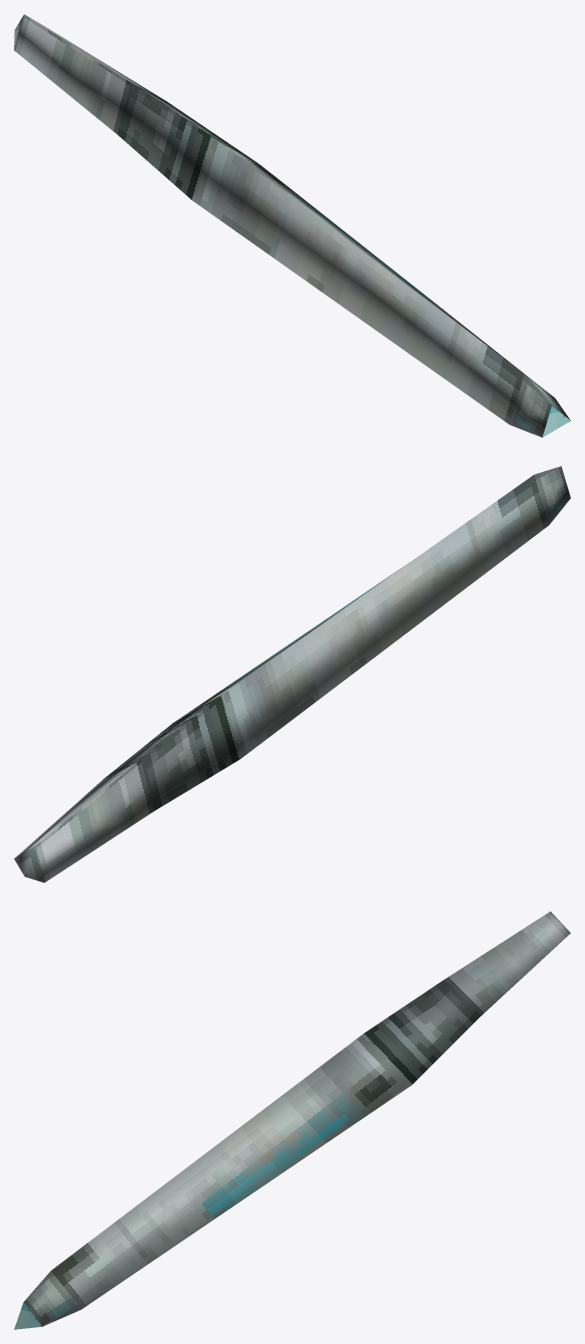
File: xwing_weapon2_neg_s02_l3.fbx
The picture shows the model from 3 angles, top to bottom: view 1: azimuth 30°, elevation 25°; view 2: azimuth 150°, elevation 25°; view 3: azimuth 330°, elevation 25°; orthographic projection.
Visible parts, largest first — view 1: mesh_node; view 2: mesh_node; view 3: mesh_node.
Boxes of the visible parts, x1,y1,x2,y2 form: mesh_node: (14, 14, 570, 437); mesh_node: (14, 466, 570, 882); mesh_node: (14, 911, 570, 1329).
Size of the model in its own units: 0.1939 by 0.1632 by 2.67.
Materials: 1 (1 with a texture image).
